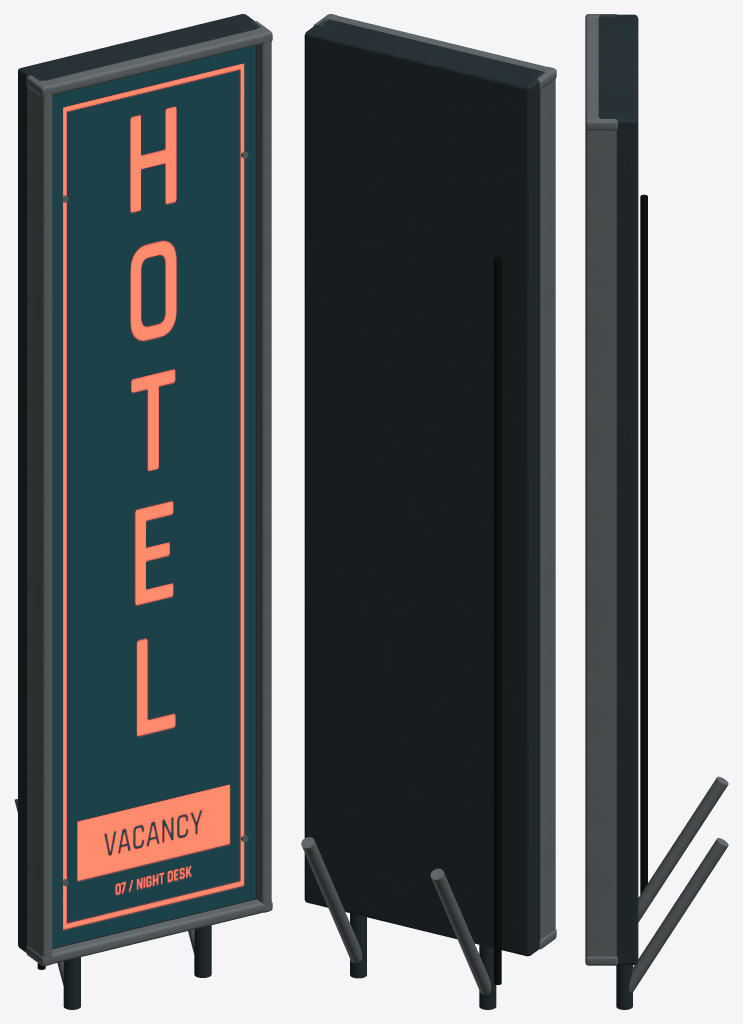
The model's file is NC_Sign_blade_LOD0.fbx.
The picture shows the model from 3 angles, left to right: view 1: azimuth 30°, elevation 25°; view 2: azimuth 150°, elevation 25°; view 3: azimuth 270°, elevation 25°; orthographic projection. The views are drawn at different scales.
Visible parts, largest first — view 1: NC_Sign_blade_LOD0; view 2: NC_Sign_blade_LOD0; view 3: NC_Sign_blade_LOD0.
Part boxes in pixels (<box>): NC_Sign_blade_LOD0: <box>14,14,272,1009</box>; NC_Sign_blade_LOD0: <box>301,14,556,1009</box>; NC_Sign_blade_LOD0: <box>585,14,728,1009</box>.
Bounding box in the file's own units: 170 × 664 × 94.87.
